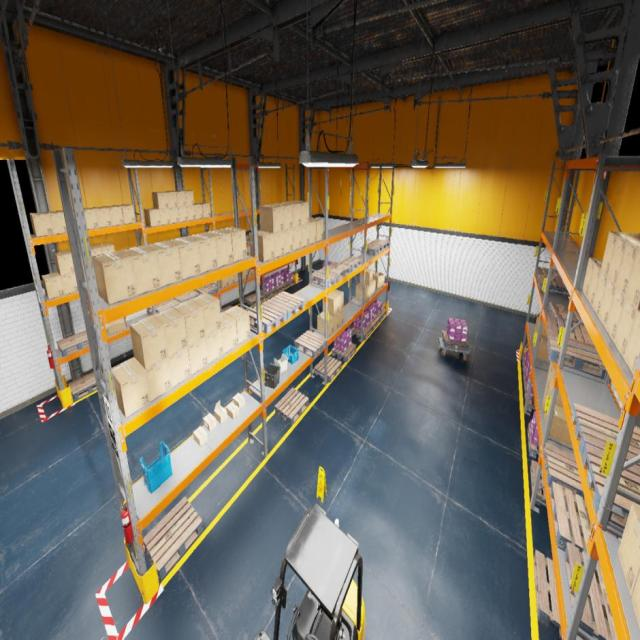box: (92, 251, 136, 305), (112, 357, 150, 418), (617, 504, 640, 597), (130, 315, 168, 369), (120, 246, 161, 295), (600, 231, 640, 277), (152, 307, 188, 357), (145, 241, 182, 287), (608, 236, 640, 287), (172, 299, 206, 346), (166, 236, 201, 280), (614, 298, 637, 359), (616, 242, 640, 297), (191, 292, 221, 336), (546, 405, 574, 451), (186, 233, 218, 273), (146, 358, 172, 402), (203, 229, 233, 267), (223, 305, 250, 345), (606, 287, 625, 343), (624, 310, 640, 374), (218, 227, 246, 262), (168, 347, 191, 388), (625, 248, 640, 309), (598, 279, 616, 328), (582, 258, 603, 298), (188, 336, 208, 375), (220, 312, 238, 354), (250, 231, 274, 262), (592, 271, 608, 317), (260, 204, 284, 233), (587, 263, 601, 307), (42, 272, 64, 300), (206, 328, 223, 364), (549, 368, 564, 407), (29, 212, 53, 236), (280, 202, 301, 228), (54, 250, 75, 276), (272, 204, 292, 230), (289, 200, 308, 226), (47, 210, 67, 234), (631, 572, 639, 628), (92, 206, 112, 228), (317, 312, 334, 336), (105, 205, 124, 226), (117, 204, 136, 224), (106, 317, 127, 334), (62, 273, 78, 295), (537, 336, 550, 362), (309, 218, 323, 242), (323, 293, 338, 315), (84, 208, 98, 230), (144, 208, 160, 227), (193, 426, 208, 446), (214, 401, 227, 424), (331, 290, 344, 312), (70, 250, 84, 270), (152, 192, 168, 209), (355, 283, 369, 302), (203, 412, 216, 432), (274, 232, 284, 258), (162, 192, 178, 208), (171, 190, 186, 207), (537, 311, 547, 336), (546, 361, 554, 391), (360, 268, 373, 286), (284, 228, 293, 254), (534, 329, 545, 350), (180, 190, 194, 206), (227, 402, 240, 418), (543, 392, 549, 425), (373, 272, 385, 288), (233, 393, 245, 409), (293, 226, 301, 250), (301, 223, 309, 247), (542, 383, 548, 413), (199, 202, 211, 217), (160, 208, 170, 225), (309, 220, 316, 244), (98, 243, 114, 253), (362, 283, 372, 298), (169, 208, 179, 223), (217, 276, 229, 288), (178, 206, 187, 222), (187, 205, 196, 221), (90, 245, 102, 256), (195, 204, 203, 219), (534, 313, 539, 332), (339, 308, 344, 327), (533, 324, 537, 346), (334, 313, 338, 332), (228, 274, 234, 286), (372, 280, 376, 295), (242, 270, 248, 279), (247, 269, 253, 277), (234, 273, 238, 283), (84, 270, 86, 284), (72, 210, 75, 218), (247, 252, 250, 255), (253, 269, 254, 275)
forklift: (253, 503, 365, 639)
pallets: (564, 543, 618, 639), (550, 482, 616, 560), (143, 496, 202, 581), (582, 444, 640, 528), (571, 403, 640, 466), (547, 332, 606, 379), (543, 442, 585, 500), (534, 550, 561, 638), (546, 316, 594, 344), (275, 388, 308, 426), (248, 302, 286, 334), (266, 291, 305, 319), (68, 372, 105, 400), (296, 330, 328, 359), (548, 302, 584, 326), (56, 330, 88, 357), (530, 460, 546, 507), (314, 356, 342, 382), (538, 274, 570, 296), (312, 268, 340, 288), (442, 331, 468, 351), (322, 262, 350, 279), (332, 343, 356, 362), (528, 423, 540, 459), (152, 298, 180, 313), (339, 256, 362, 272), (536, 267, 562, 280), (174, 290, 200, 302), (352, 325, 372, 340), (524, 385, 535, 412), (244, 292, 263, 306), (194, 284, 218, 295), (362, 243, 382, 255), (370, 239, 389, 250), (260, 288, 277, 298), (368, 316, 380, 330), (375, 309, 387, 322), (283, 278, 295, 288), (274, 283, 286, 292), (222, 305, 233, 312), (522, 356, 526, 374), (524, 369, 526, 391), (246, 235, 249, 242)
